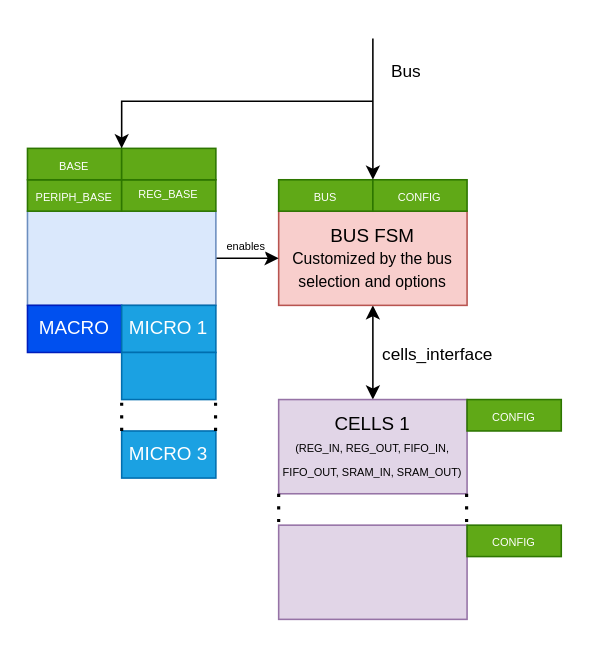
Image size: 589x647. Some labels were removed from this diagram. Each missing label, with the centre of its shape:
ADDR DECODER Optimized decoder: (x=121, y=257)
CELLS N (REG_IN, REG_OUT, FIFO_IN, FIFO_OUT, SRAM_IN, SRAM_OUT): (x=372, y=571)
MICRO 2: (x=168, y=375)
REGS[]: (x=168, y=163)
